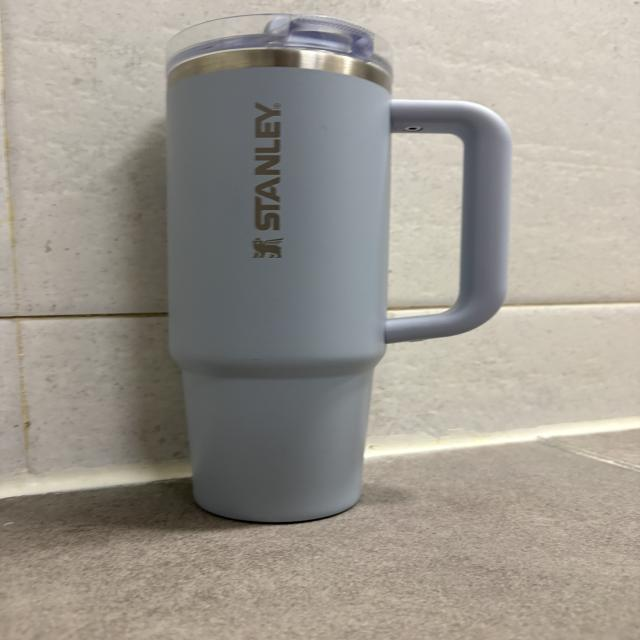waterbottle: (163, 13, 511, 524)
